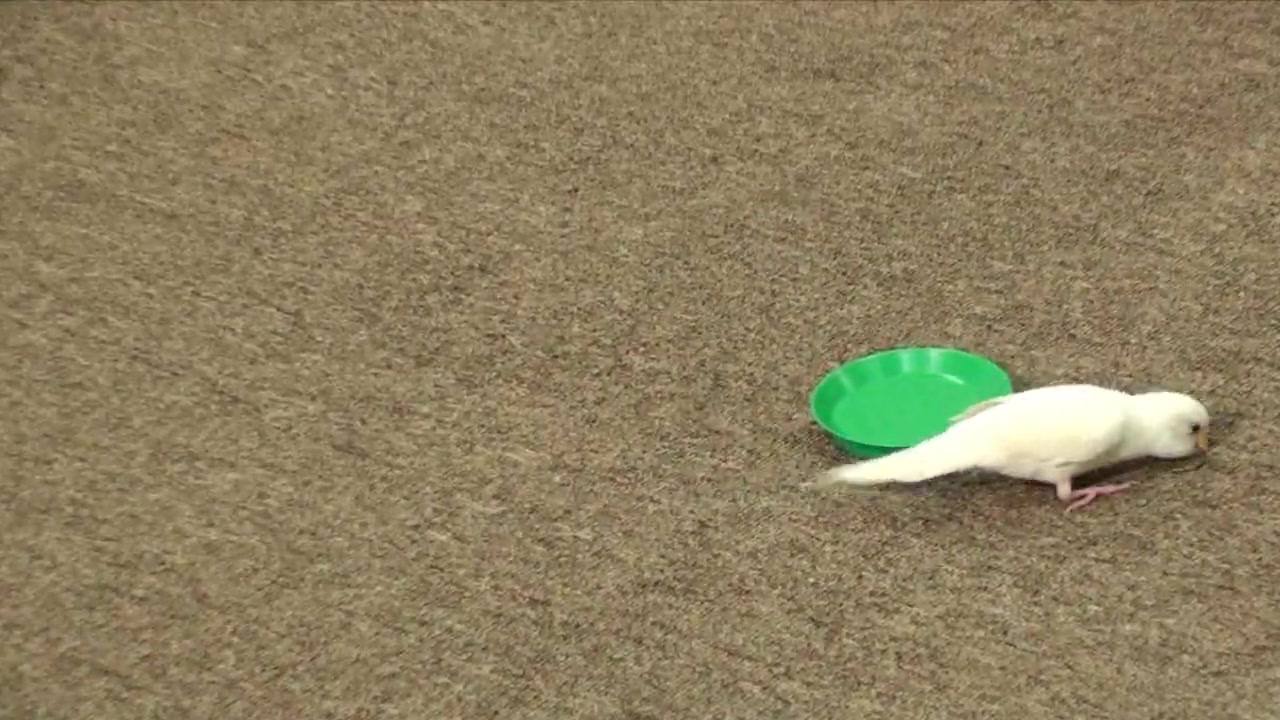bird: (814, 383, 1213, 514)
